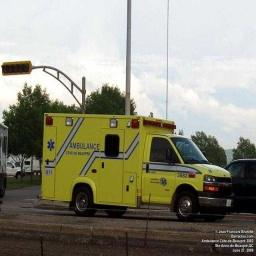ambulance: (41, 113, 231, 220), (0, 123, 7, 197)
